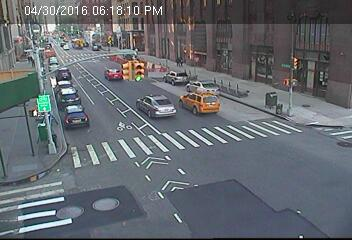neg: (24, 104, 37, 121), (160, 93, 170, 106), (137, 60, 144, 70), (130, 30, 137, 39)
pos: (178, 56, 185, 66), (175, 57, 180, 64)
